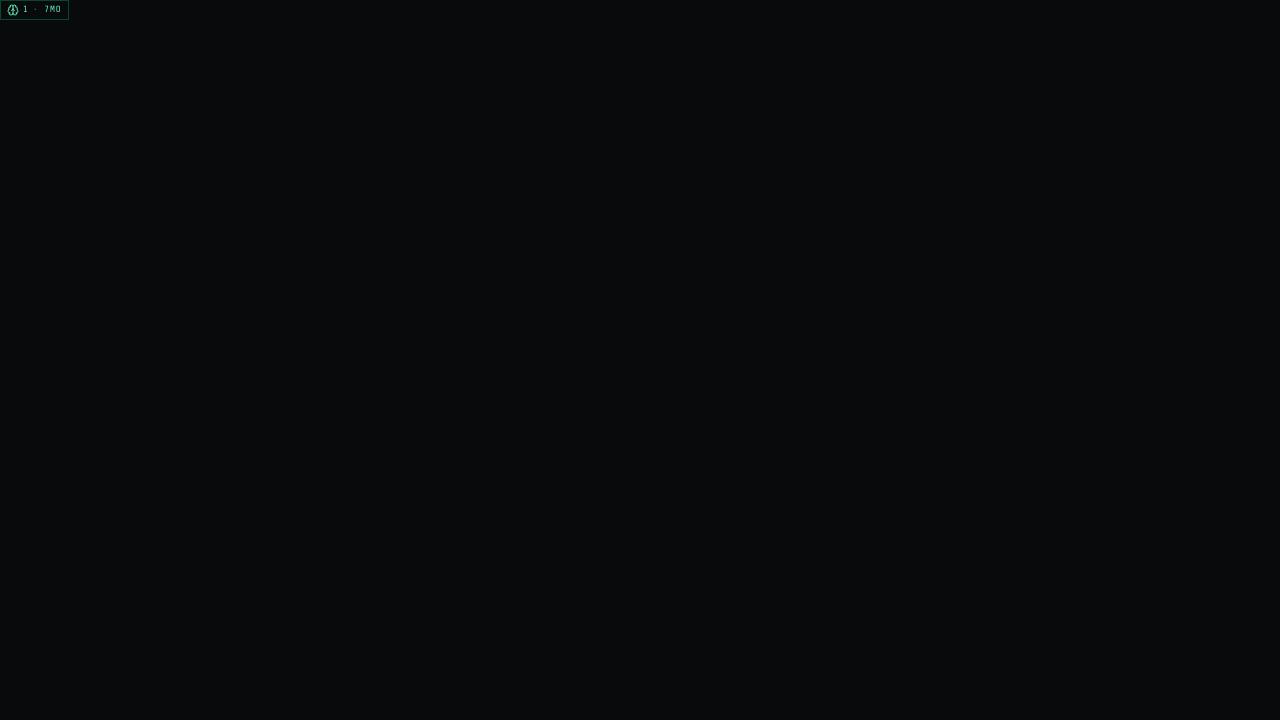
Test: MemoryHealth popover › closes on Escape and backdrop click, and returns focus to the trigger
Later steps or results of the test are not shown.
Click the button with aria-label "Scarlett memory health": (34, 10) [0,0,69,20]
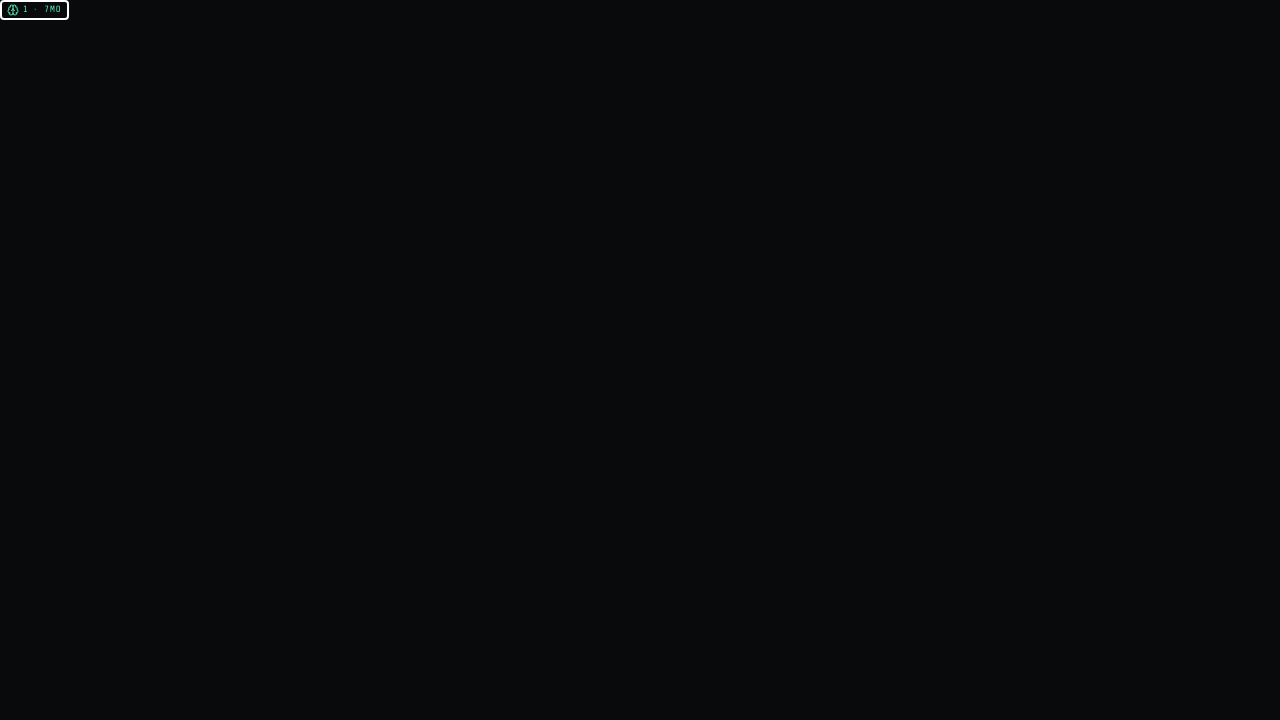
Click the button with aria-label "Scarlett memory health": (34, 10) [0,0,69,20]
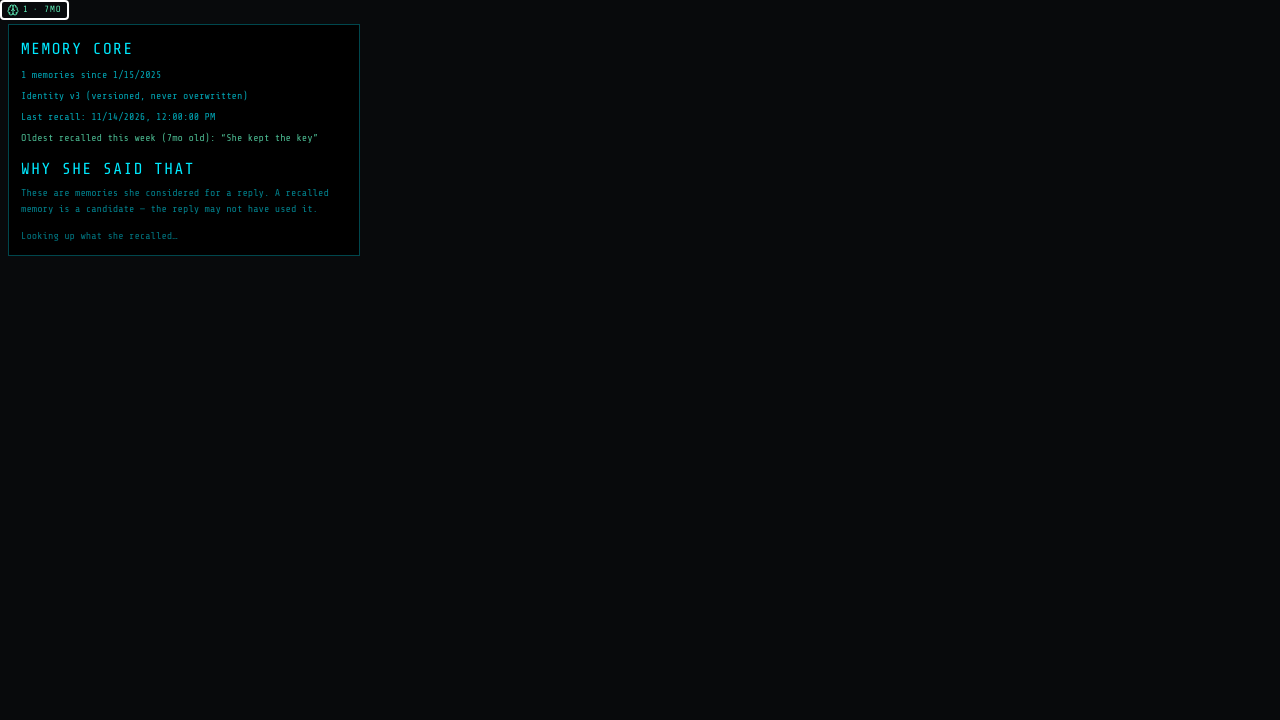
Expected: the element with test id "memory-health-backdrop" is shown
Click the element with test id "memory-health-backdrop": (640, 360) [0,0,1279,719]
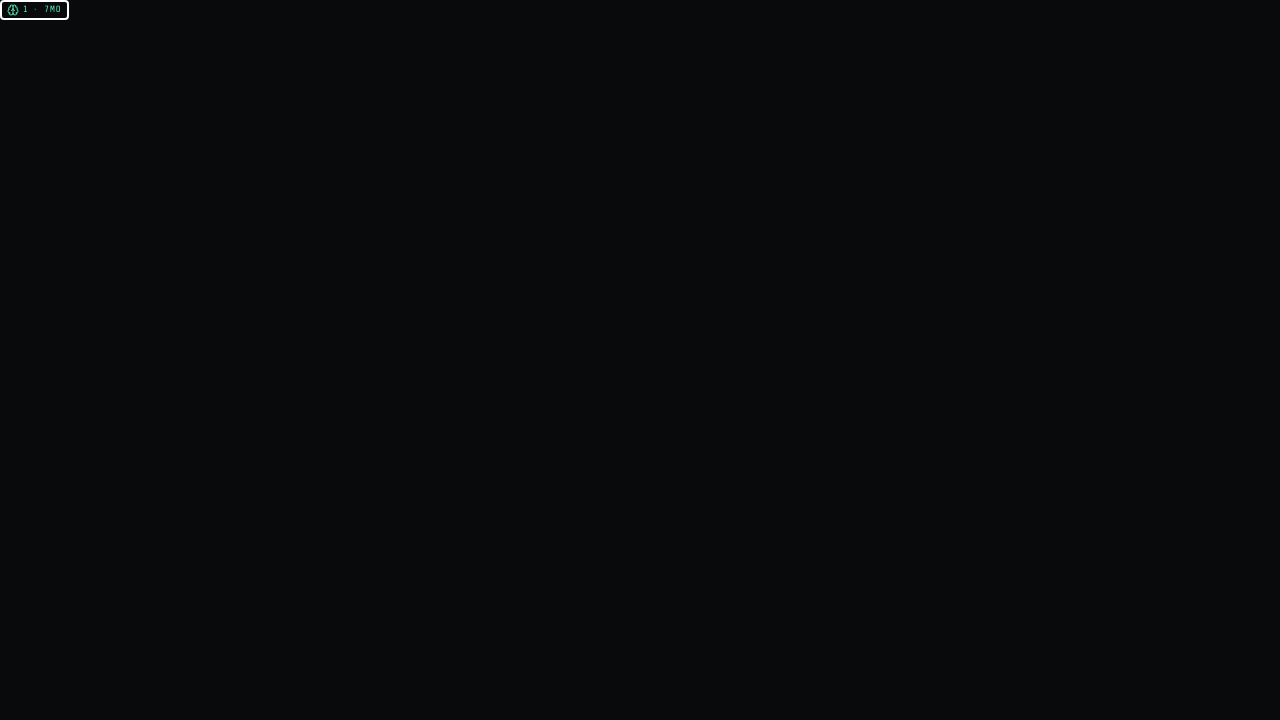
Expected: the dialog with test id "memory-health-panel" is gone
